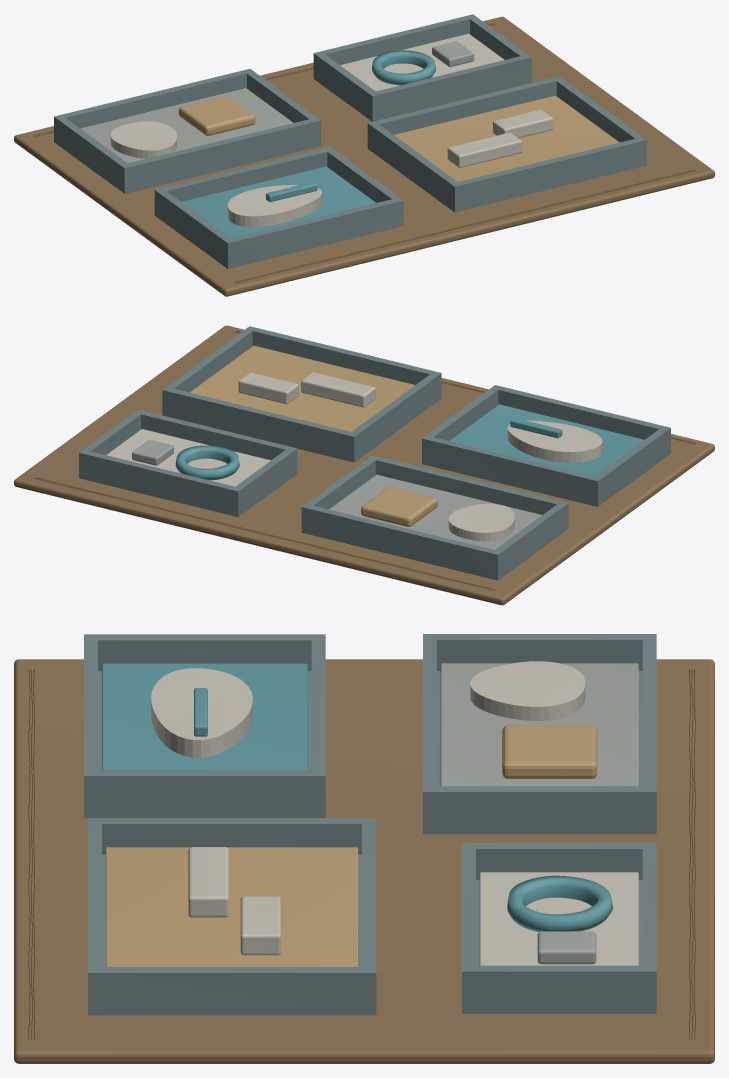
File: exile-sequence.glb
3 renders of one model, top to bottom at view 1: azimuth 30°, elevation 25°; view 2: azimuth 150°, elevation 25°; view 3: azimuth 270°, elevation 25°, orthographic. The views are drawn at different scales.
Visible parts, largest first — view 1: exile-sequence-exile-modern-oiled-reading-wood, exile-sequence-exile-modern-slate-fixture.001, exile-sequence-exile-modern-slate-fixture.002, exile-sequence-exile-modern-slate-fixture, exile-sequence-exile-modern-slate-fixture.003, exile-sequence-exile-modern-ochre-reading-marker, exile-sequence-exile-modern-blue-reading-marker, exile-sequence-exile-modern-grey-reading-marker, exile-sequence-exile-modern-warm-pale-fixture.001, exile-sequence-exile-modern-warm-pale-fixture, exile-sequence-exile-modern-warm-pale-fixture.003, exile-sequence-exile-modern-warm-pale-fixture.002 (+4 smaller); view 2: exile-sequence-exile-modern-oiled-reading-wood, exile-sequence-exile-modern-slate-fixture.001, exile-sequence-exile-modern-slate-fixture.002, exile-sequence-exile-modern-slate-fixture, exile-sequence-exile-modern-slate-fixture.003, exile-sequence-exile-modern-ochre-reading-marker, exile-sequence-exile-modern-blue-reading-marker, exile-sequence-exile-modern-grey-reading-marker, exile-sequence-exile-modern-warm-pale-fixture.001, exile-sequence-exile-modern-warm-pale-fixture, exile-sequence-exile-modern-warm-pale-fixture.003, exile-sequence-exile-modern-warm-pale-fixture.002 (+4 smaller); view 3: exile-sequence-exile-modern-oiled-reading-wood, exile-sequence-exile-modern-slate-fixture.001, exile-sequence-exile-modern-ochre-reading-marker, exile-sequence-exile-modern-slate-fixture.002, exile-sequence-exile-modern-slate-fixture, exile-sequence-exile-modern-slate-fixture.003, exile-sequence-exile-modern-blue-reading-marker, exile-sequence-exile-modern-grey-reading-marker, exile-sequence-exile-modern-warm-pale-fixture.003, exile-sequence-exile-modern-warm-pale-fixture, exile-sequence-exile-modern-warm-pale-fixture.002, exile-sequence-exile-modern-warm-pale-fixture.001 (+4 smaller).
Boxes of the visible parts, x1,y1,x2,y2 form: exile-sequence-exile-modern-oiled-reading-wood: (14,16,714,296); exile-sequence-exile-modern-slate-fixture.001: (367,76,646,212); exile-sequence-exile-modern-slate-fixture.002: (54,69,320,193); exile-sequence-exile-modern-slate-fixture: (154,147,403,268); exile-sequence-exile-modern-slate-fixture.003: (313,14,531,121); exile-sequence-exile-modern-ochre-reading-marker: (394,95,619,181); exile-sequence-exile-modern-blue-reading-marker: (181,166,375,238); exile-sequence-exile-modern-grey-reading-marker: (80,88,293,163); exile-sequence-exile-modern-warm-pale-fixture.001: (447,109,553,167); exile-sequence-exile-modern-warm-pale-fixture: (227,185,321,226); exile-sequence-exile-modern-warm-pale-fixture.003: (340,33,504,91); exile-sequence-exile-modern-warm-pale-fixture.002: (110,121,176,158); exile-sequence-exile-modern-oiled-reading-wood: (14,325,714,605); exile-sequence-exile-modern-slate-fixture.001: (162,326,441,462); exile-sequence-exile-modern-slate-fixture.002: (301,455,568,580); exile-sequence-exile-modern-slate-fixture: (422,385,670,506); exile-sequence-exile-modern-slate-fixture.003: (79,409,297,517); exile-sequence-exile-modern-ochre-reading-marker: (190,345,414,431); exile-sequence-exile-modern-blue-reading-marker: (450,404,644,476); exile-sequence-exile-modern-grey-reading-marker: (329,474,542,549); exile-sequence-exile-modern-warm-pale-fixture.001: (238,372,375,407); exile-sequence-exile-modern-warm-pale-fixture: (507,420,602,462); exile-sequence-exile-modern-warm-pale-fixture.003: (106,429,270,486); exile-sequence-exile-modern-warm-pale-fixture.002: (448,503,514,541); exile-sequence-exile-modern-oiled-reading-wood: (14,659,714,1063); exile-sequence-exile-modern-slate-fixture.001: (88,818,376,1015); exile-sequence-exile-modern-ochre-reading-marker: (106,847,358,966); exile-sequence-exile-modern-slate-fixture.002: (423,634,656,834); exile-sequence-exile-modern-slate-fixture: (84,634,325,818); exile-sequence-exile-modern-slate-fixture.003: (462,843,656,1013); exile-sequence-exile-modern-blue-reading-marker: (102,663,307,769); exile-sequence-exile-modern-grey-reading-marker: (440,663,638,786); exile-sequence-exile-modern-warm-pale-fixture.003: (479,872,638,965); exile-sequence-exile-modern-warm-pale-fixture: (151,668,252,757); exile-sequence-exile-modern-warm-pale-fixture.002: (470,661,585,720); exile-sequence-exile-modern-warm-pale-fixture.001: (188,847,280,955).
Bounding box in the file's own units: 1.2 × 0.089 × 0.9.
